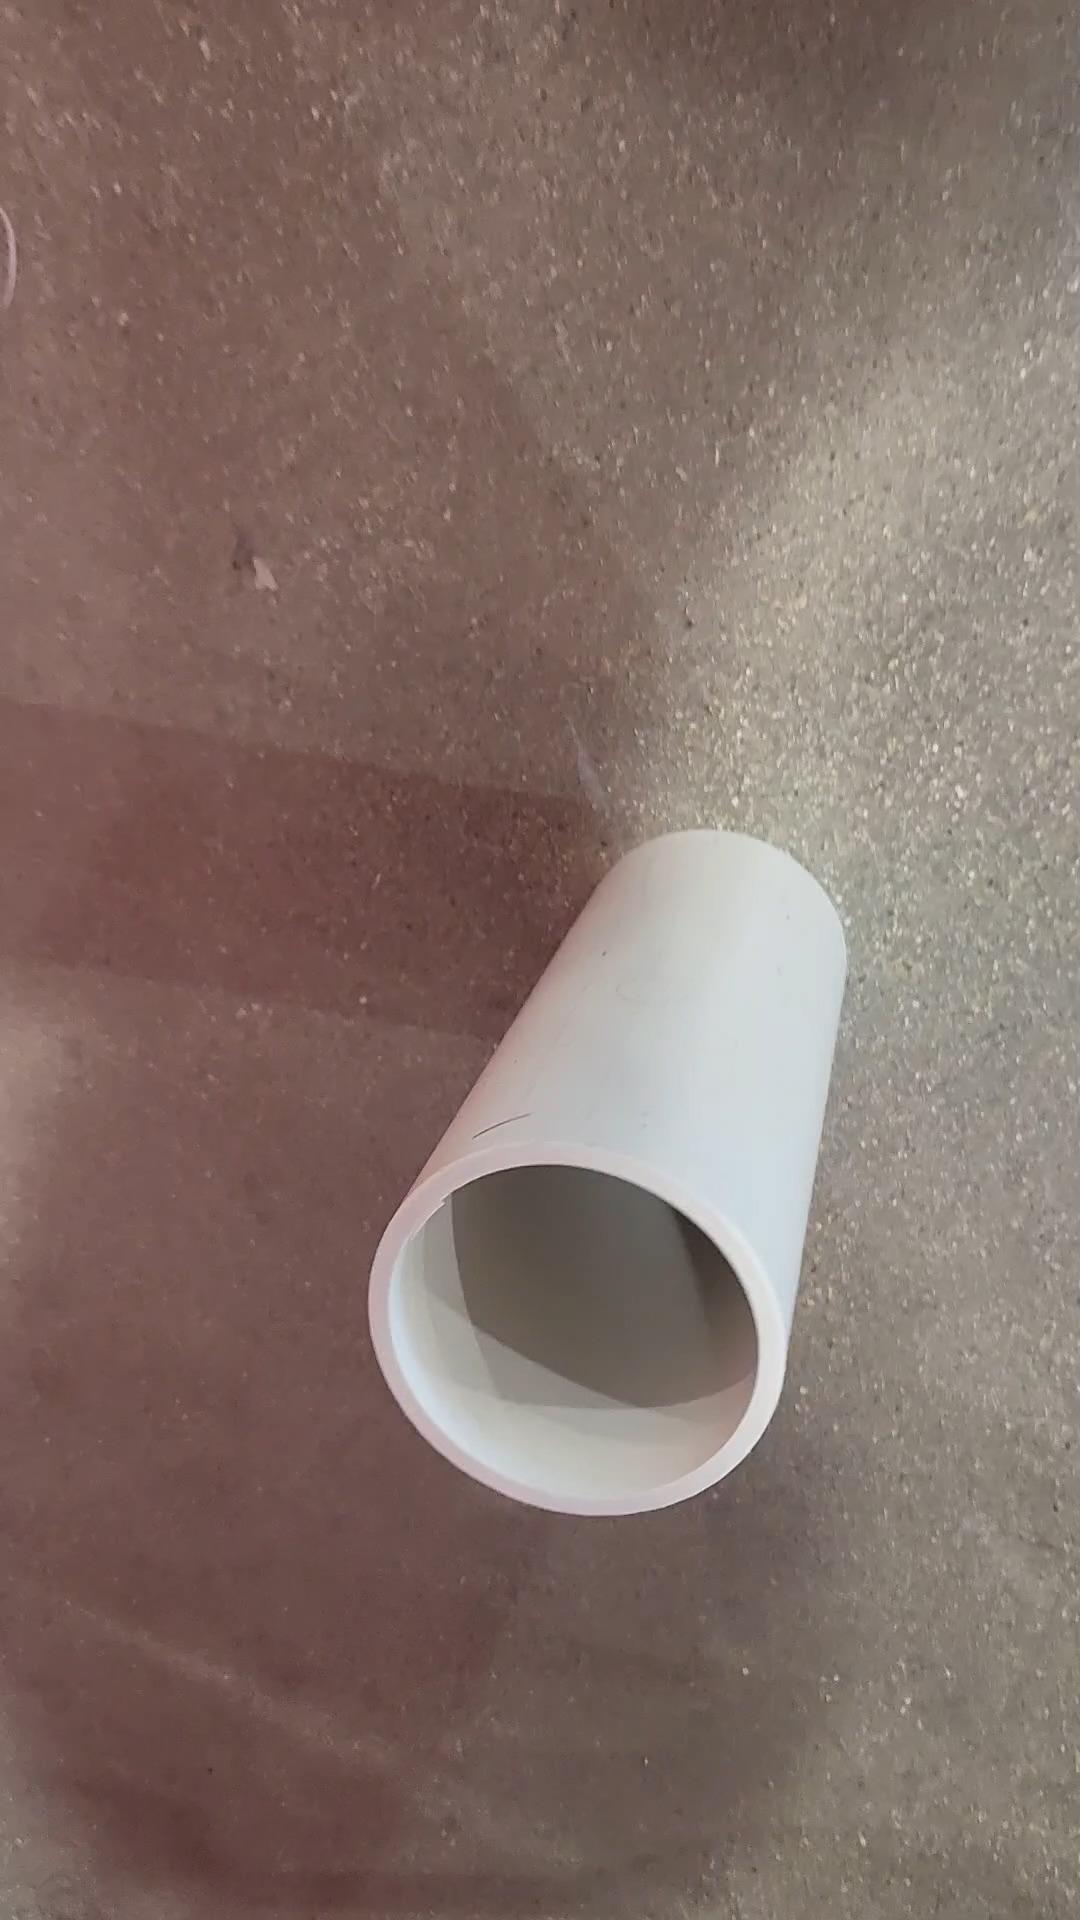coral: (375, 835, 843, 1513)
